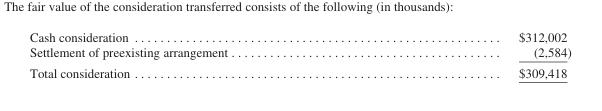table: (28, 29, 570, 79)
table column: (28, 29, 372, 79), (372, 29, 570, 79)
table row: (28, 44, 570, 62), (28, 62, 570, 79), (28, 29, 570, 44)
